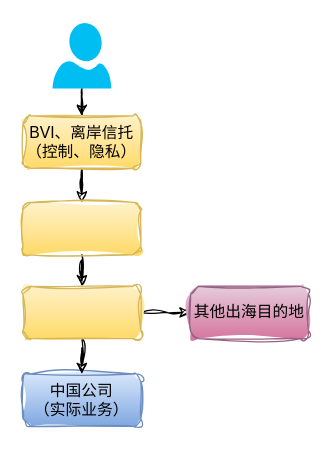
The diagram is 331 pixels wide and 449 high, and some of its shapes have lost their labels. Each missing label, with the centre of its shape:
开曼 （融资主体）: point (81, 228)
香港、新加坡 （税收规划）: point (81, 312)
